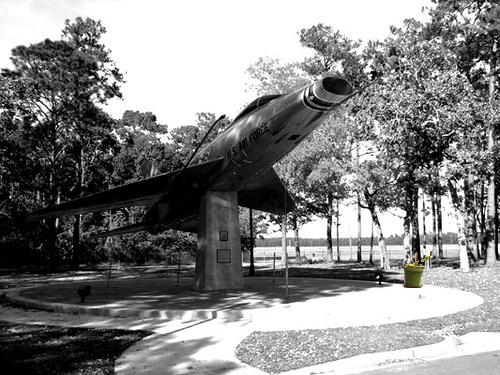tampered: (403, 252, 432, 288)
